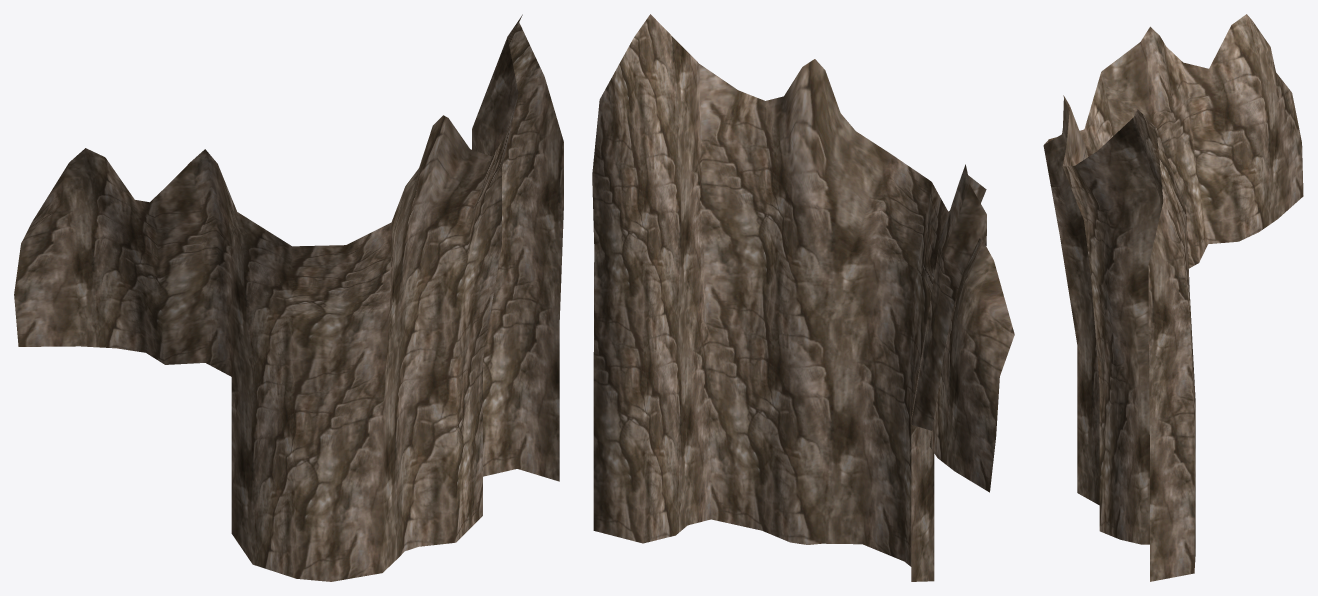
The model's file is OVERHILL_A_01_MOUNTAIN_BACKDROP_03.fbx.
The picture shows the model from 3 angles, left to right: view 1: azimuth 30°, elevation 25°; view 2: azimuth 150°, elevation 25°; view 3: azimuth 270°, elevation 25°; orthographic projection. The views are drawn at different scales.
Parts seen in each view (by area): view 1: OVERHILL_A_01_MOUNTAIN_BACKDROP_03; view 2: OVERHILL_A_01_MOUNTAIN_BACKDROP_03; view 3: OVERHILL_A_01_MOUNTAIN_BACKDROP_03.
Boxes of the visible parts, box(x1,y1,x2,y2) form: OVERHILL_A_01_MOUNTAIN_BACKDROP_03: box(14, 14, 563, 581); OVERHILL_A_01_MOUNTAIN_BACKDROP_03: box(592, 14, 1014, 581); OVERHILL_A_01_MOUNTAIN_BACKDROP_03: box(1043, 14, 1303, 581).
Bounding box in the file's own units: 302746 × 305984 × 155176.
Materials: 1 (1 with a texture image).
